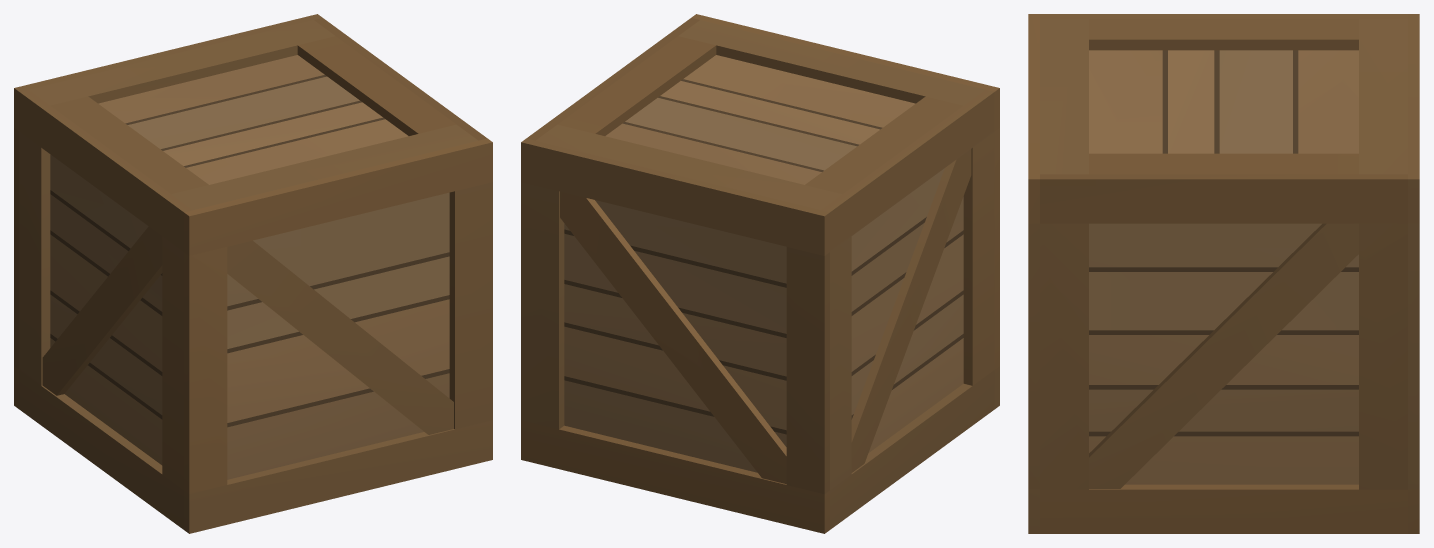
The model's file is crate.wood.pine.glb.
3 renders of one model, left to right at view 1: azimuth 30°, elevation 25°; view 2: azimuth 150°, elevation 25°; view 3: azimuth 270°, elevation 25°, orthographic. The views are drawn at different scales.
Parts seen in each view (by area): view 1: crate_wood_pine; view 2: crate_wood_pine; view 3: crate_wood_pine.
Part boxes in pixels (x1,y1,x2,y2): crate_wood_pine: (14, 14, 492, 533); crate_wood_pine: (521, 14, 999, 533); crate_wood_pine: (1028, 14, 1419, 533).
Size of what is drawn, in the model's own units: 0.6 by 0.6 by 0.6.
